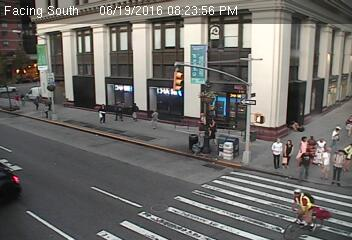neg: (280, 185, 320, 238), (166, 65, 187, 93), (206, 18, 225, 44), (223, 107, 241, 131), (40, 69, 57, 93), (219, 138, 236, 161), (23, 60, 38, 80), (288, 115, 303, 134), (322, 90, 335, 108), (247, 111, 260, 128), (247, 129, 257, 144)
pos: (326, 149, 351, 186), (316, 146, 341, 180), (266, 138, 290, 170), (294, 147, 318, 179), (292, 135, 315, 166), (201, 116, 224, 147), (302, 134, 323, 163), (192, 112, 213, 141), (279, 139, 300, 167), (312, 137, 333, 165), (145, 108, 163, 132), (338, 139, 351, 171), (329, 124, 346, 148), (126, 101, 143, 124), (109, 100, 126, 123), (93, 101, 110, 124), (28, 90, 45, 112), (340, 114, 351, 139), (43, 95, 56, 112), (16, 92, 28, 107), (10, 92, 21, 107)
